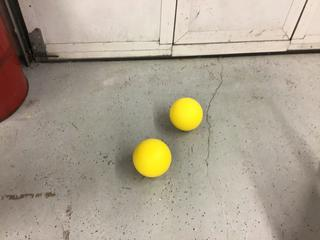power_cell: (131, 135, 174, 178), (169, 95, 206, 135)
